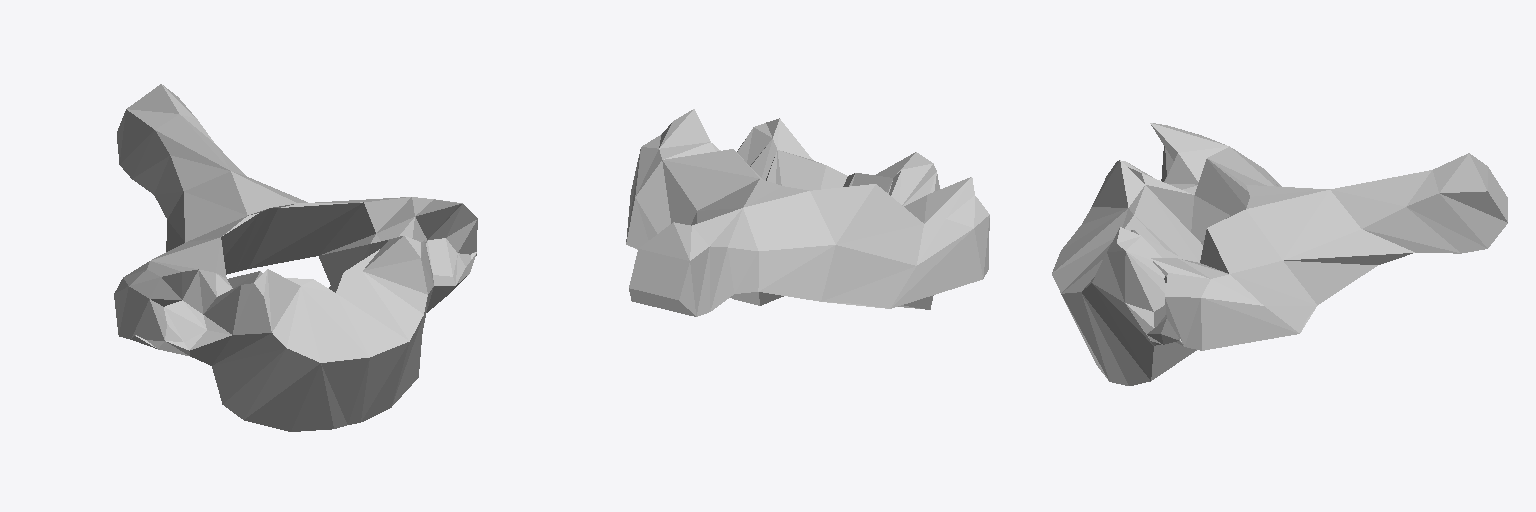
The model's file is Spine_Bone_05.obj.
3 renders of one model, left to right at view 1: azimuth 30°, elevation 25°; view 2: azimuth 150°, elevation 25°; view 3: azimuth 270°, elevation 25°, orthographic.
Visible parts, largest first — view 1: C05_Mesh group1; view 2: C05_Mesh group1; view 3: C05_Mesh group1.
Part boxes in pixels (left/top/right/bottom): C05_Mesh group1: left=114, top=84, right=477, bottom=431; C05_Mesh group1: left=626, top=109, right=989, bottom=316; C05_Mesh group1: left=1052, top=123, right=1507, bottom=385.
Bounding box in the file's own units: 0.6529 × 0.3646 × 0.7321.